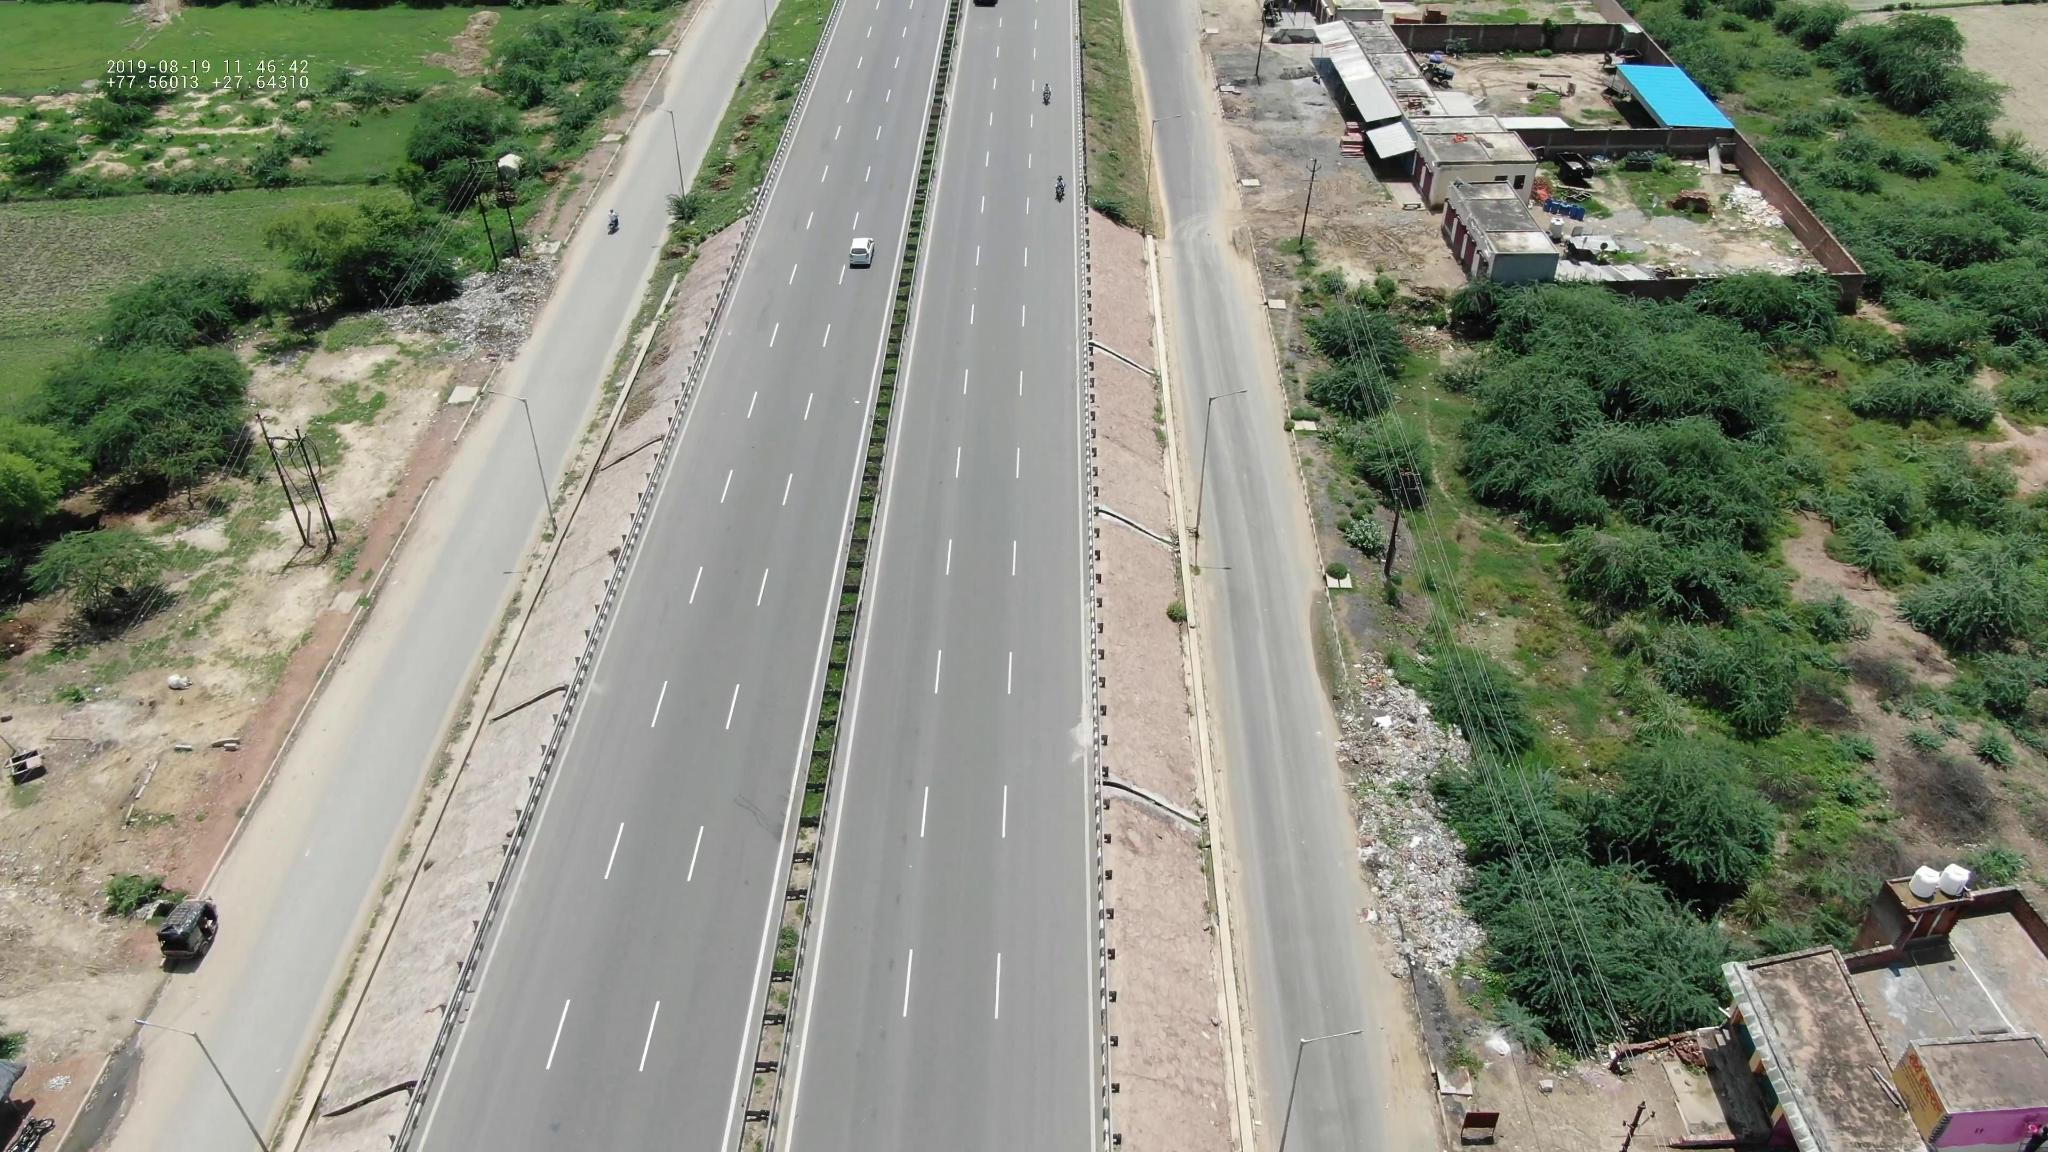Road_side_garbage: (1355, 703, 1478, 964)
